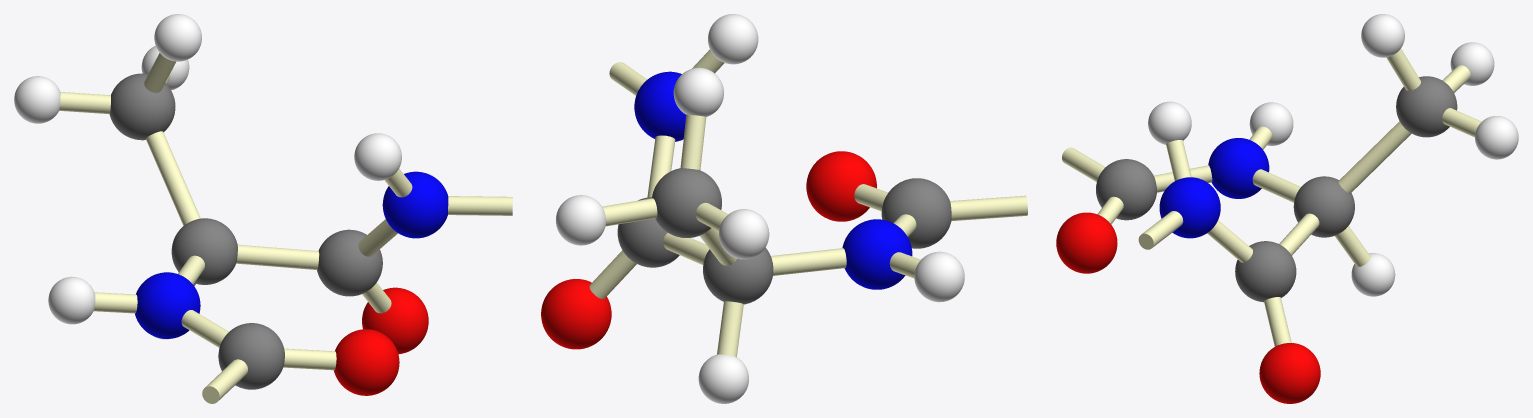
Rendered from conformation.gltf.
3 renders of one model, left to right at view 1: azimuth 30°, elevation 25°; view 2: azimuth 150°, elevation 25°; view 3: azimuth 270°, elevation 25°, orthographic. The views are drawn at different scales.
Parts seen in each view (by area): view 1: ?????????2, ?????????3, ?????????5, ?????????9, ?????????13, ?????????1, ?????????4, ?????????6, ?????????22, ?????????14, ?????????12, ?????????7 (+14 smaller); view 2: ?????????6, ?????????2, ?????????3, ?????????9, ?????????1, ?????????4, ?????????13, ?????????5, ?????????7, ?????????14, ?????????10, ?????????11 (+15 smaller); view 3: ?????????2, ?????????6, ?????????5, ?????????3, ?????????13, ?????????1, ?????????9, ?????????4, ?????????22, ?????????11, ?????????12, ?????????14 (+16 smaller).
Part boxes in pixels (x1=…): ?????????2: x1=334, y1=329, x2=399, y2=395; ?????????3: x1=135, y1=272, x2=200, y2=338; ?????????5: x1=317, y1=229, x2=382, y2=296; ?????????9: x1=109, y1=73, x2=175, y2=140; ?????????13: x1=382, y1=171, x2=448, y2=238; ?????????1: x1=218, y1=323, x2=284, y2=389; ?????????4: x1=171, y1=218, x2=237, y2=284; ?????????6: x1=362, y1=287, x2=428, y2=354; ?????????22: x1=146, y1=131, x2=200, y2=225; ?????????14: x1=354, y1=133, x2=401, y2=180; ?????????12: x1=154, y1=14, x2=201, y2=61; ?????????7: x1=48, y1=276, x2=95, y2=324; ?????????6: x1=541, y1=279, x2=611, y2=349; ?????????2: x1=806, y1=151, x2=876, y2=221; ?????????3: x1=842, y1=219, x2=912, y2=289; ?????????9: x1=652, y1=168, x2=721, y2=237; ?????????1: x1=881, y1=178, x2=951, y2=248; ?????????4: x1=703, y1=247, x2=773, y2=304; ?????????13: x1=634, y1=71, x2=686, y2=141; ?????????5: x1=617, y1=197, x2=679, y2=267; ?????????7: x1=914, y1=251, x2=964, y2=302; ?????????14: x1=708, y1=14, x2=758, y2=64; ?????????10: x1=719, y1=209, x2=769, y2=259; ?????????11: x1=555, y1=195, x2=605, y2=245; ?????????2: x1=1056, y1=212, x2=1117, y2=273; ?????????6: x1=1259, y1=343, x2=1320, y2=403; ?????????5: x1=1235, y1=241, x2=1296, y2=302; ?????????3: x1=1208, y1=138, x2=1269, y2=198; ?????????13: x1=1159, y1=177, x2=1220, y2=238; ?????????1: x1=1096, y1=159, x2=1156, y2=220; ?????????9: x1=1396, y1=76, x2=1457, y2=137; ?????????4: x1=1293, y1=176, x2=1354, y2=237; ?????????22: x1=1338, y1=121, x2=1411, y2=193; ?????????11: x1=1475, y1=116, x2=1518, y2=159; ?????????12: x1=1361, y1=14, x2=1404, y2=57; ?????????14: x1=1148, y1=101, x2=1191, y2=144.
Size of the model in its own units: 48.03 by 39.15 by 52.85.
